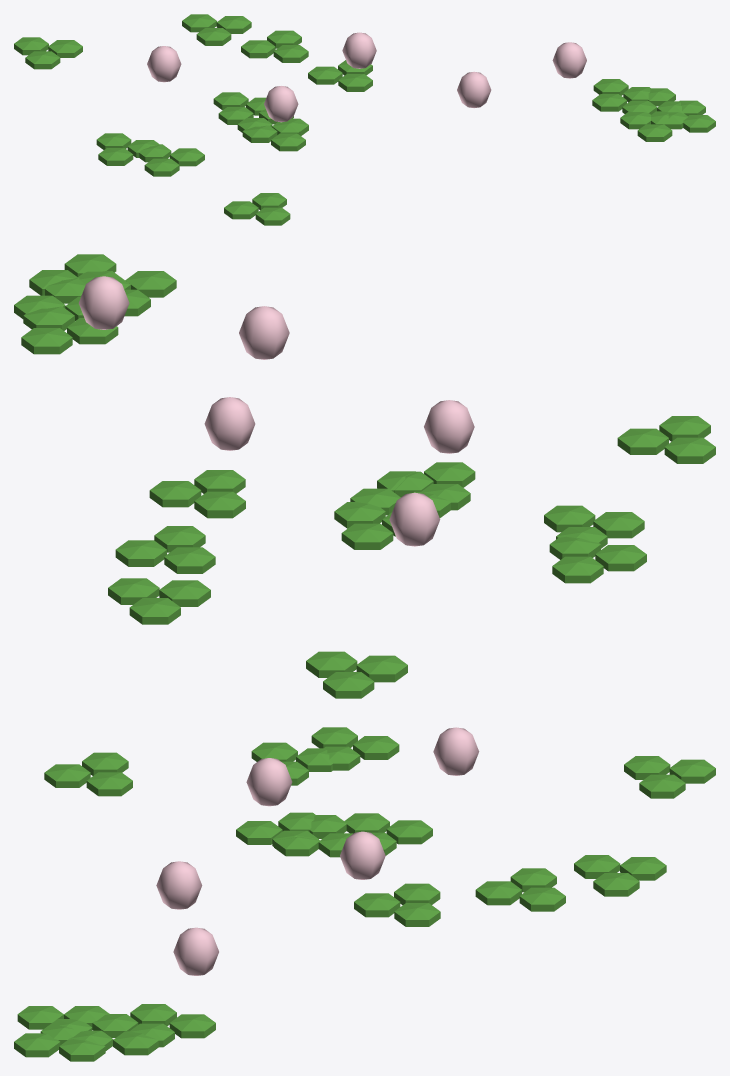
Rendered from clover.glb.
3 renders of one model, top to bottom at view 1: azimuth 30°, elevation 25°; view 2: azimuth 150°, elevation 25°; view 3: azimuth 270°, elevation 25°, orthographic. The views are drawn at different scales.
Visible parts, largest first — view 1: Clover; view 2: Clover; view 3: Clover.
Boxes of the visible parts, box(x1,y1,x2,y2) form: Clover: box(14, 14, 715, 225); Clover: box(14, 254, 715, 698); Clover: box(14, 727, 715, 1061).
Bounding box in the file's own units: 1.01 × 0.115 × 0.9167.
